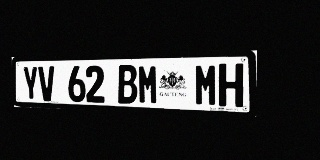2: (85, 65, 105, 103)
6: (67, 66, 86, 102)
B: (117, 65, 138, 104)
H: (219, 63, 244, 107)
M: (194, 64, 218, 106), (138, 65, 159, 105)
V: (38, 66, 56, 101)
Y: (22, 66, 39, 101)
